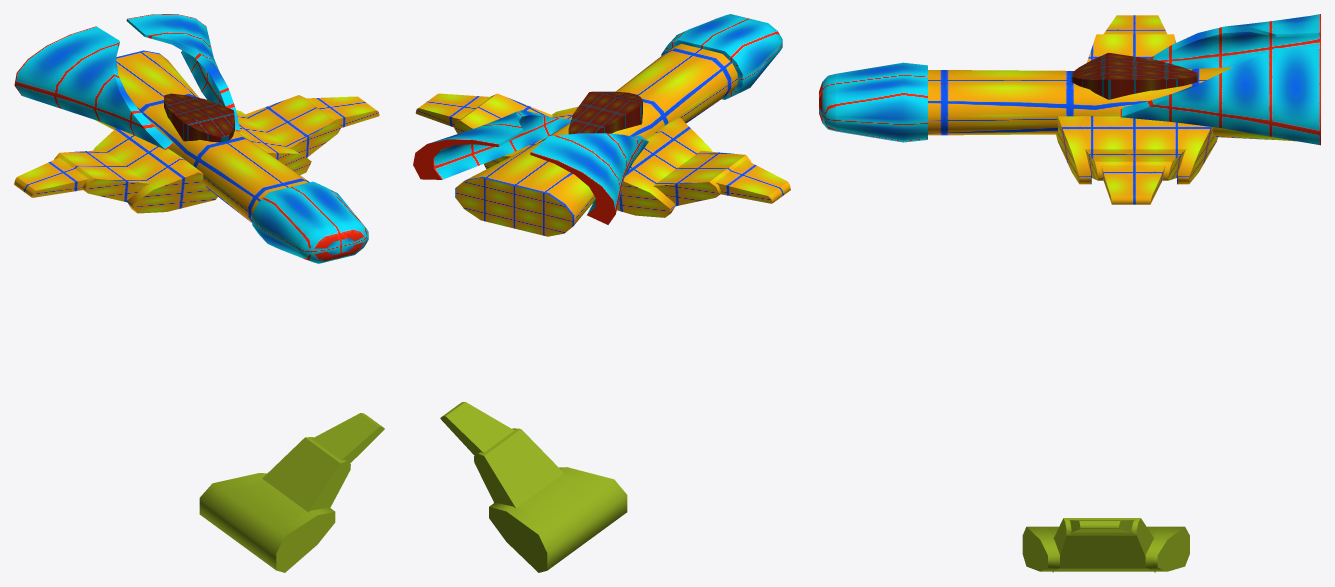
File: Starfighter_A.DAE
3 renders of one model, left to right at view 1: azimuth 30°, elevation 25°; view 2: azimuth 150°, elevation 25°; view 3: azimuth 270°, elevation 25°, orthographic. The views are drawn at different scales.
Parts seen in each view (by area): view 1: Sphere01, Box01, Cylinder03, Object01_PIVOT, Cylinder05, Object02_PIVOT, Object03_PIVOT, Cylinder02, Cylinder04; view 2: Sphere01, Box01, Cylinder03, Object01_PIVOT, Object03_PIVOT, Cylinder05, Object02_PIVOT, Cylinder02; view 3: Sphere01, Box01, Cylinder04, Object01_PIVOT, Object02_PIVOT, Cylinder02, Cylinder03, Object03_PIVOT.
Boxes of the visible parts, x1,y1,x2,y2 form: Sphere01: (94, 50, 368, 263); Box01: (14, 14, 240, 149); Cylinder03: (199, 473, 335, 572); Object01_PIVOT: (262, 413, 384, 512); Cylinder05: (93, 128, 217, 213); Object02_PIVOT: (244, 95, 379, 157); Object03_PIVOT: (14, 150, 149, 202); Cylinder02: (164, 93, 234, 142); Cylinder04: (236, 110, 311, 175); Sphere01: (455, 14, 782, 236); Box01: (413, 110, 648, 224); Cylinder03: (489, 467, 627, 572); Object01_PIVOT: (440, 402, 563, 507); Object03_PIVOT: (653, 150, 790, 206); Cylinder05: (617, 117, 711, 217); Object02_PIVOT: (415, 93, 553, 133); Cylinder02: (568, 91, 642, 134); Sphere01: (819, 62, 1298, 142); Box01: (1120, 14, 1320, 145); Cylinder04: (1056, 116, 1217, 184); Object01_PIVOT: (1052, 518, 1155, 572); Object02_PIVOT: (1085, 149, 1185, 204); Cylinder02: (1071, 52, 1197, 99); Cylinder03: (1022, 526, 1189, 571); Object03_PIVOT: (1087, 15, 1175, 62).
Size of the model in its own units: 699 by 804 by 893.
4 materials, 3 textured.
